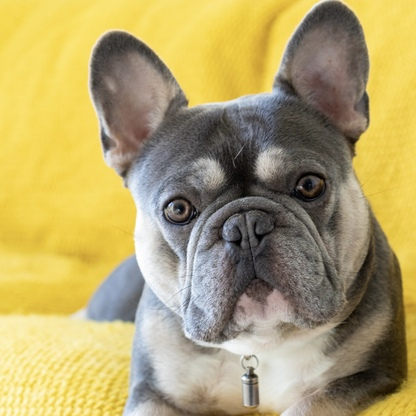bulldog: (81, 5, 408, 416)
